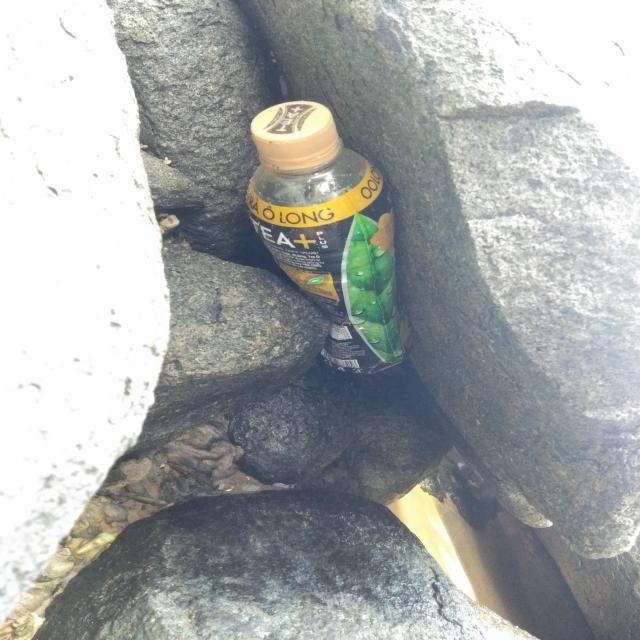Clear plastic bottle: (246, 101, 414, 374)
Plastic bottle cap: (250, 101, 339, 162)
